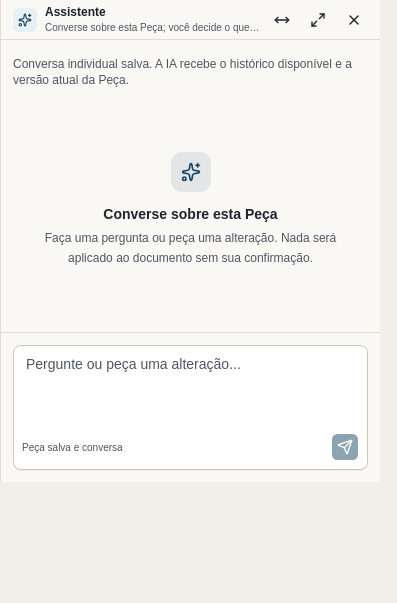
it: AssistantPanel › sincroniza a peça e ignora a seleção e o cursor no envio
The image size is (397, 603).
Focus the text box named "O que você quer que a IA faça?" at point(190, 386), box [14, 346, 367, 426]
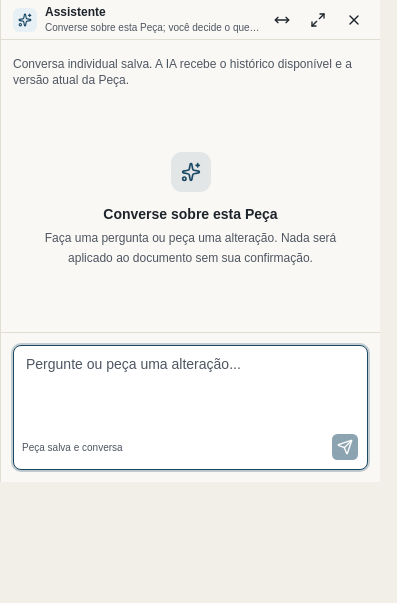
Type "Analise a peça." into the text box named "O que você quer que a IA faça?" at point(190, 386), box [14, 346, 367, 426]
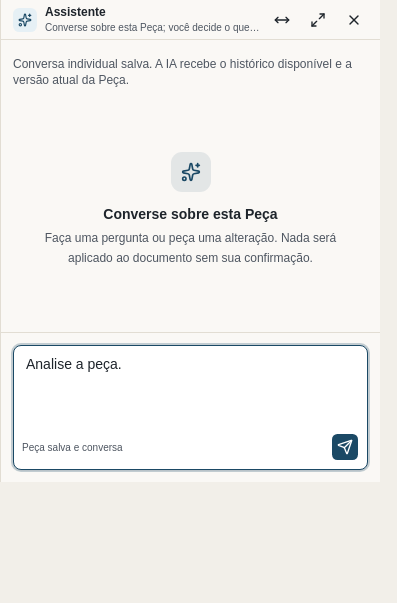
Click the button named "Enviar para IA" at point(345, 447), box [331, 433, 359, 461]
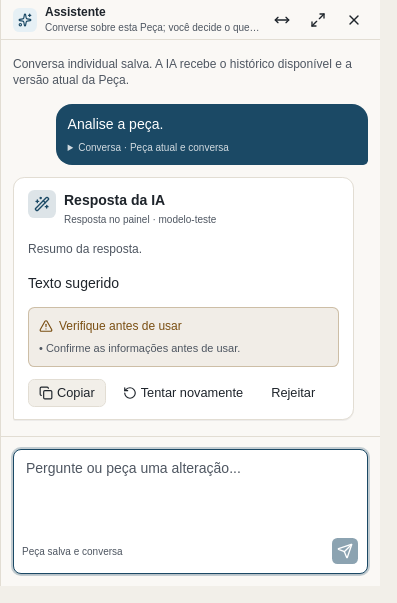
Now the heading "Resposta da IA" is shown, box [64, 192, 165, 208]
